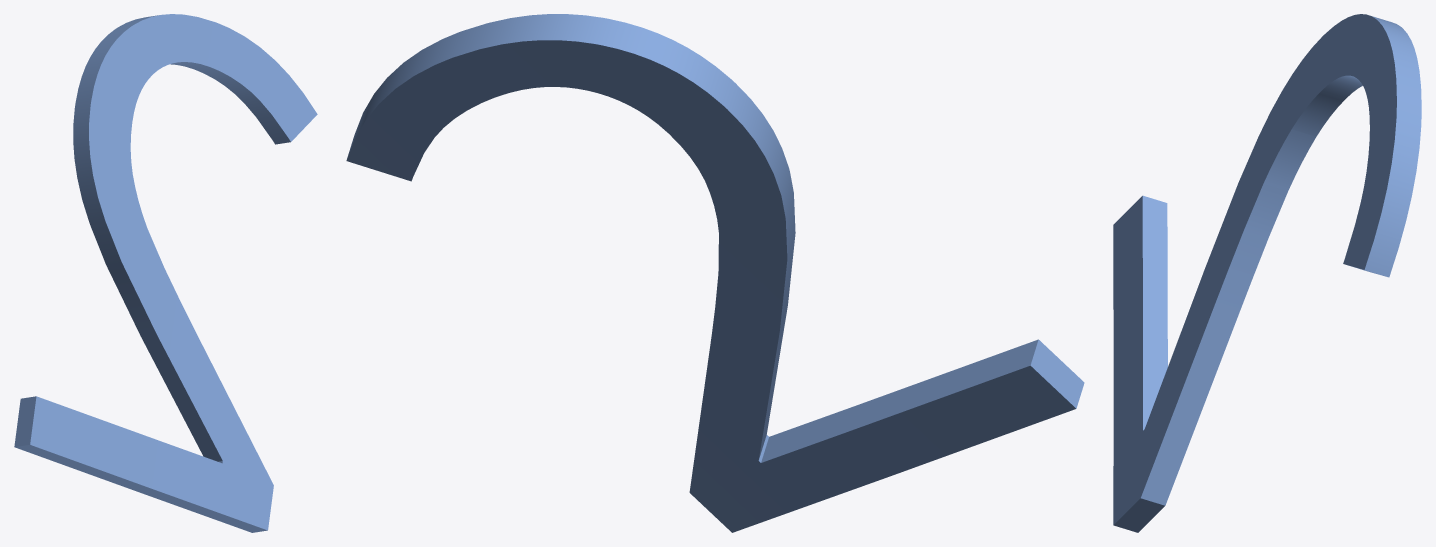
Rendered from New_Number_2.gltf.
3 views of the same model, side by side, from view 1: azimuth 30°, elevation 25°; view 2: azimuth 150°, elevation 25°; view 3: azimuth 270°, elevation 25° (orthographic). The views are drawn at different scales.
Parts seen in each view (by area): view 1: Part 533; view 2: Part 533; view 3: Part 533.
Boxes of the visible parts, x1,y1,x2,y2 form: Part 533: (14,14,317,532); Part 533: (346,14,1084,532); Part 533: (1113,14,1421,532).
Size of the model in its own units: 0.00483 by 0.00502 by 0.00278.
